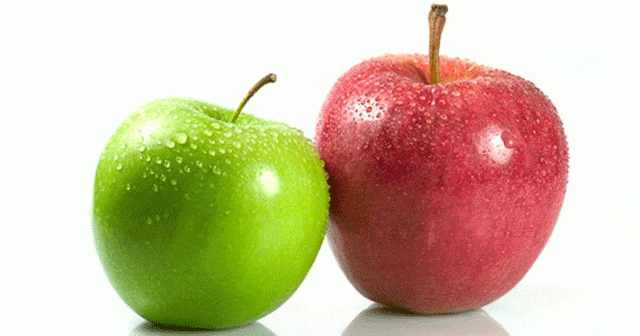apple: (80, 45, 329, 336)
